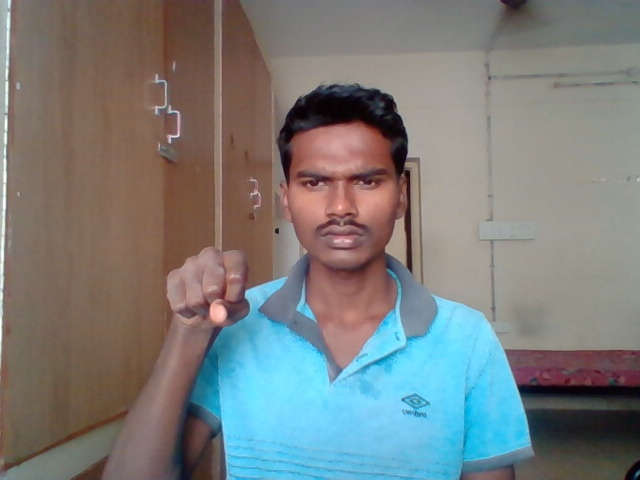Thank You: (164, 243, 255, 332)
